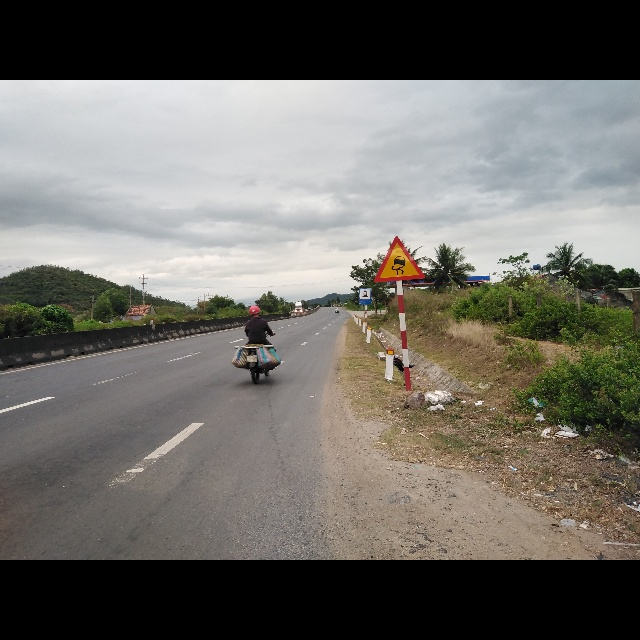Đường trơn trượt: (374, 236, 424, 284)
